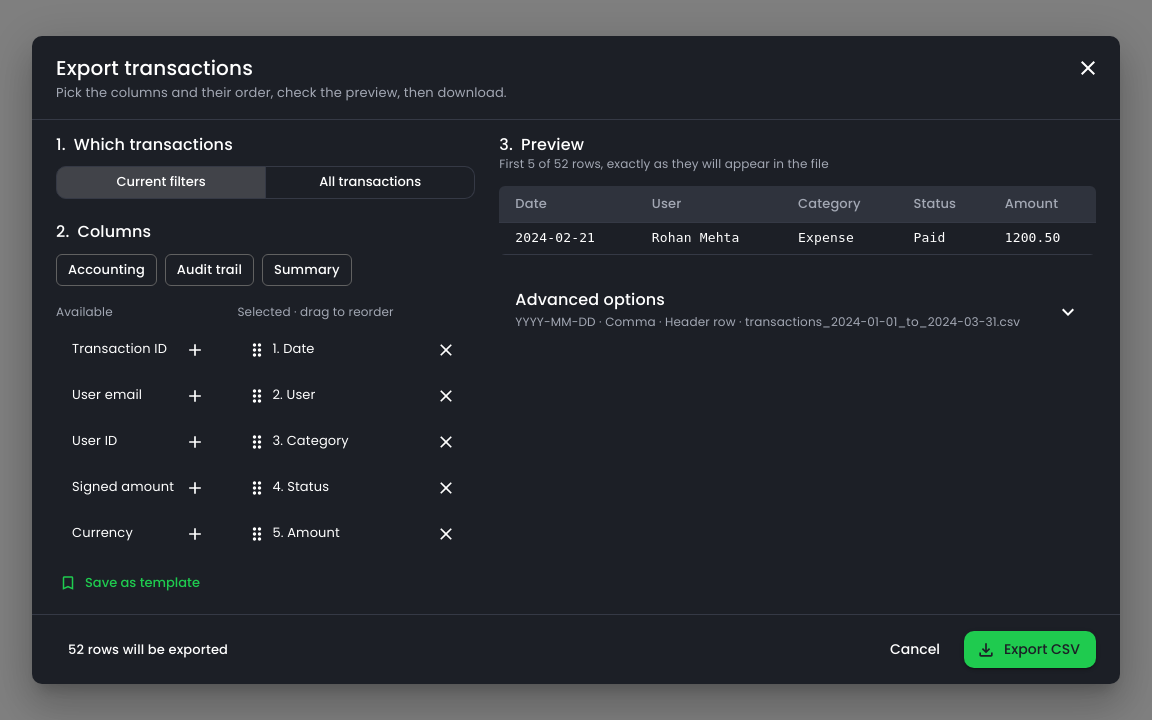
Test: ExportDialog › sends the chosen columns and current filters, then downloads through the browser
Expected: the text "52 rows will be exported" is shown, [56,640,240,659]
Click the button named "Remove User". click: click(446, 396)
box: [431,381,461,411]
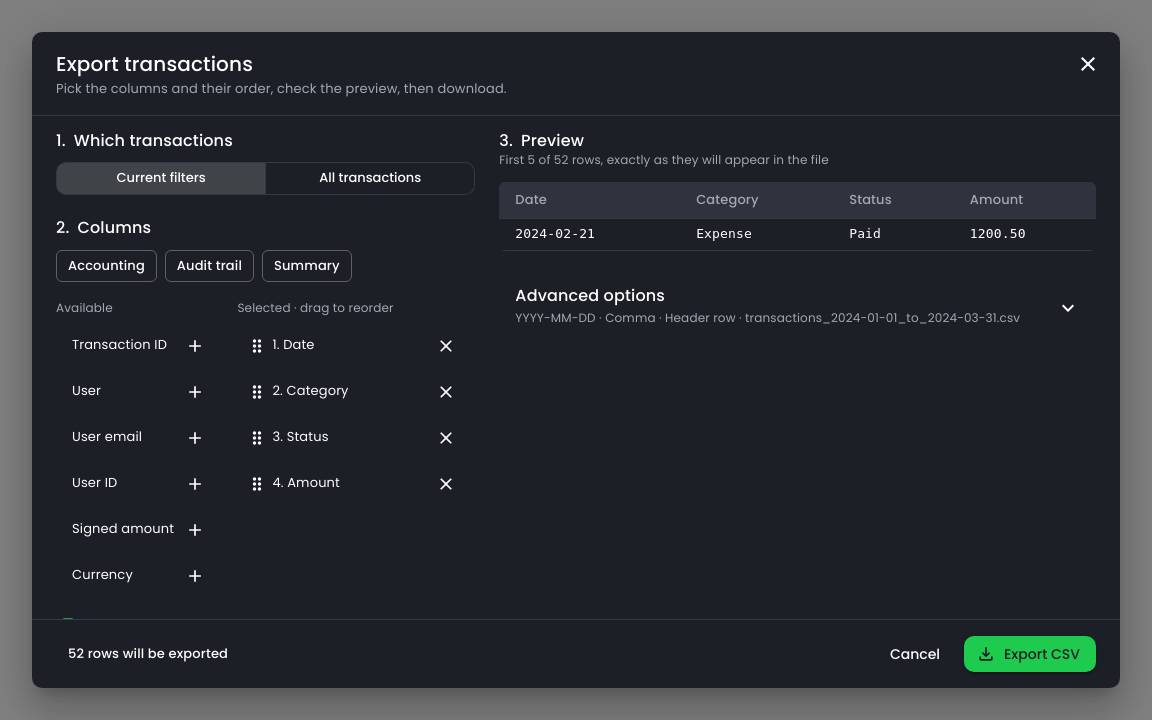
Click the button "Export CSV". click: click(1030, 654)
box: [964,636,1096,672]
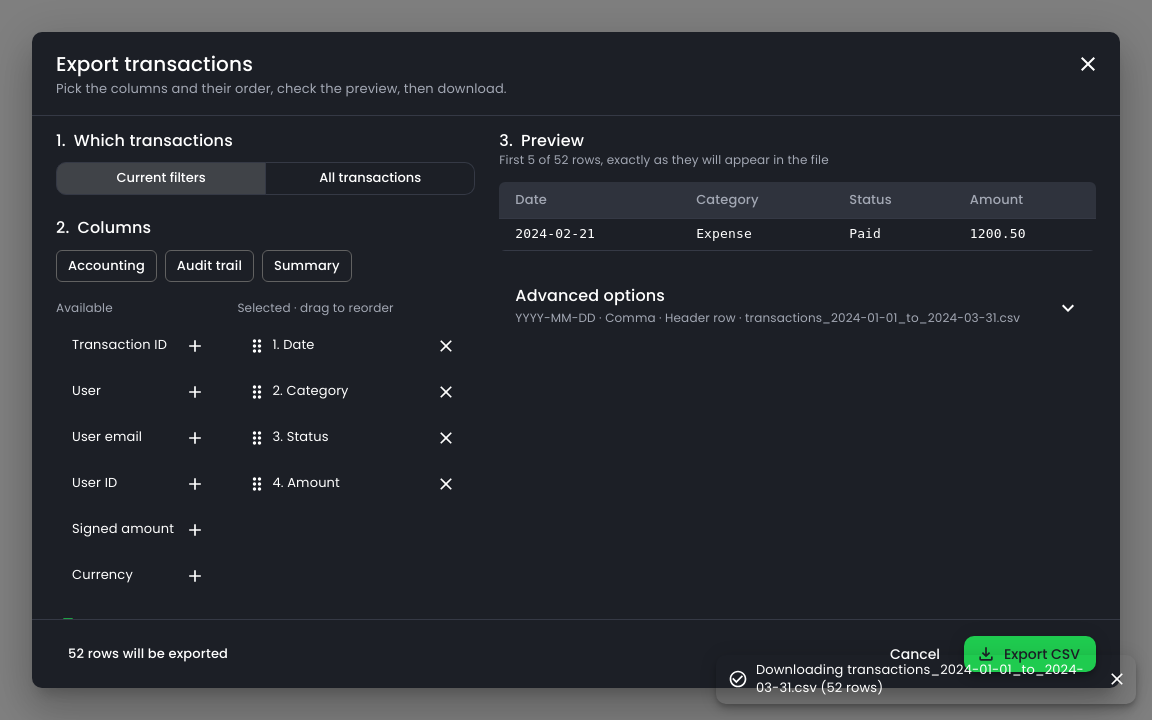
Expected: the text "Downloading transactions_2024-01-01_to_2024-03-31.csv (52 rows)" is shown, [756,661,1094,698]
